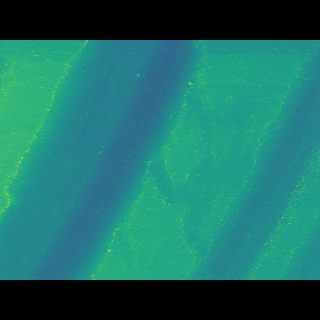Loch: (0, 69, 205, 250), (183, 74, 320, 250)
